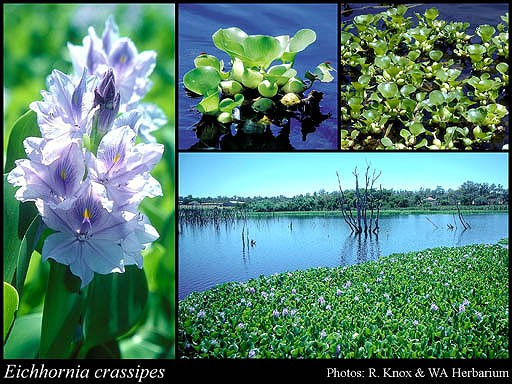water_hyacinth: (342, 7, 508, 149), (183, 28, 330, 128)
